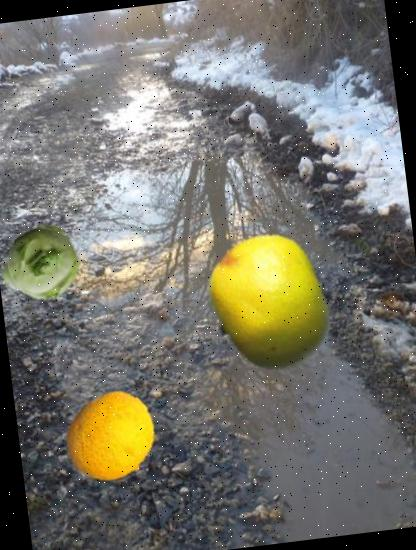Cantaloupe: (60, 386, 164, 489)
Kohlrabi: (0, 220, 86, 312)
Pomelo: (191, 226, 350, 384)
